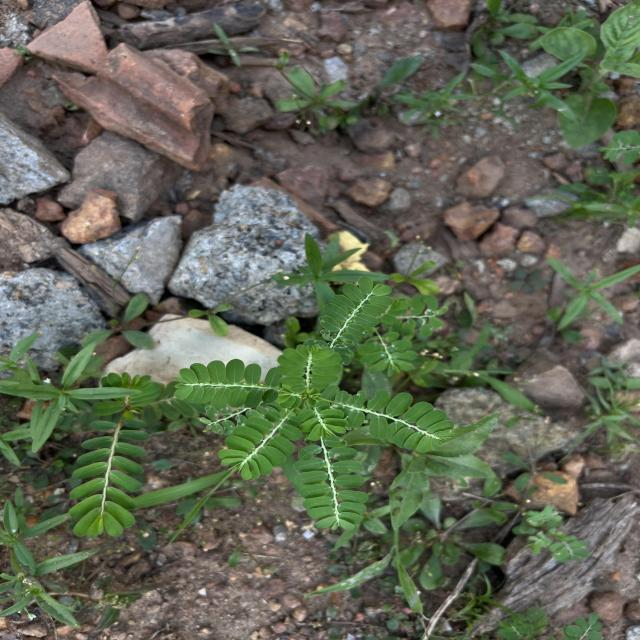Phyllanthus niruri: (64, 417, 154, 541), (320, 384, 460, 454), (293, 430, 368, 532), (215, 410, 305, 482), (316, 272, 396, 352), (165, 357, 268, 409), (274, 338, 342, 395)
